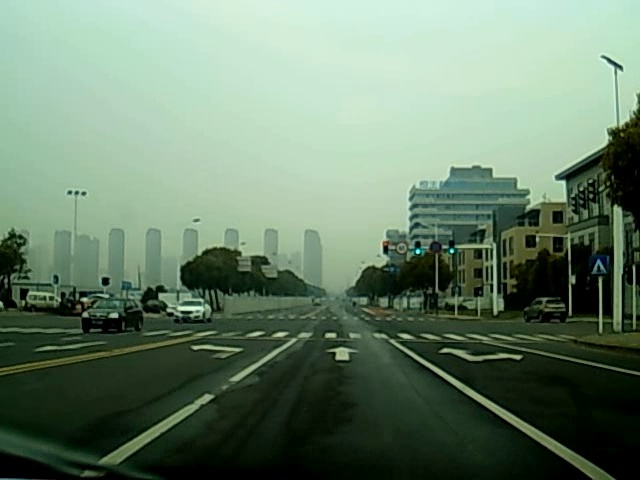Traffic_Light_go: (414, 242, 422, 258), (449, 241, 455, 257)
Traffic_Light_stop: (382, 240, 390, 257)
